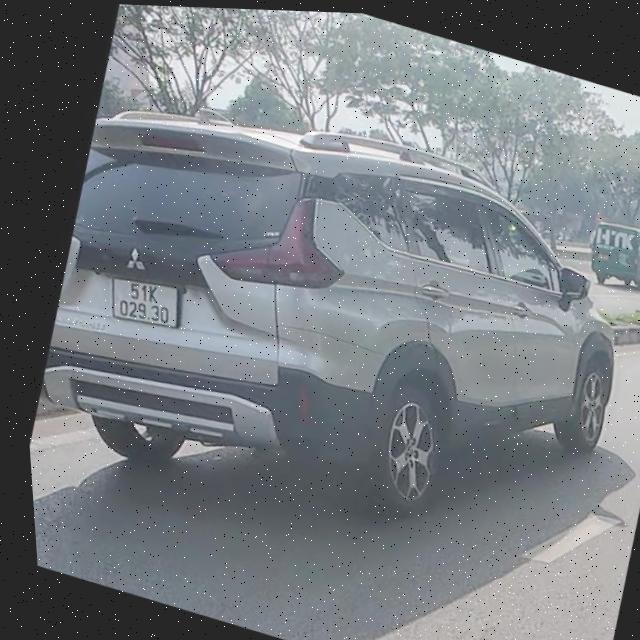car: (4, 52, 640, 606), (568, 198, 640, 306)
plate: (94, 262, 195, 336)
